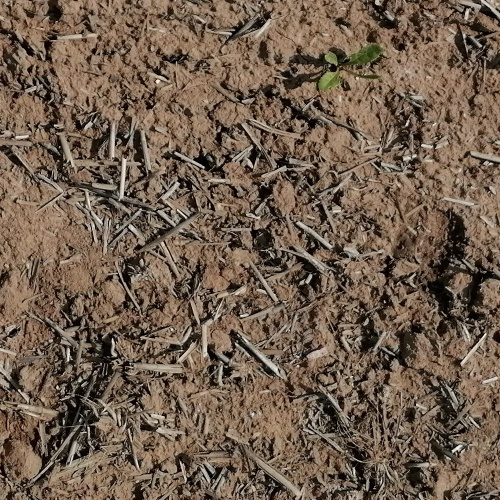beet: (318, 44, 385, 96)
